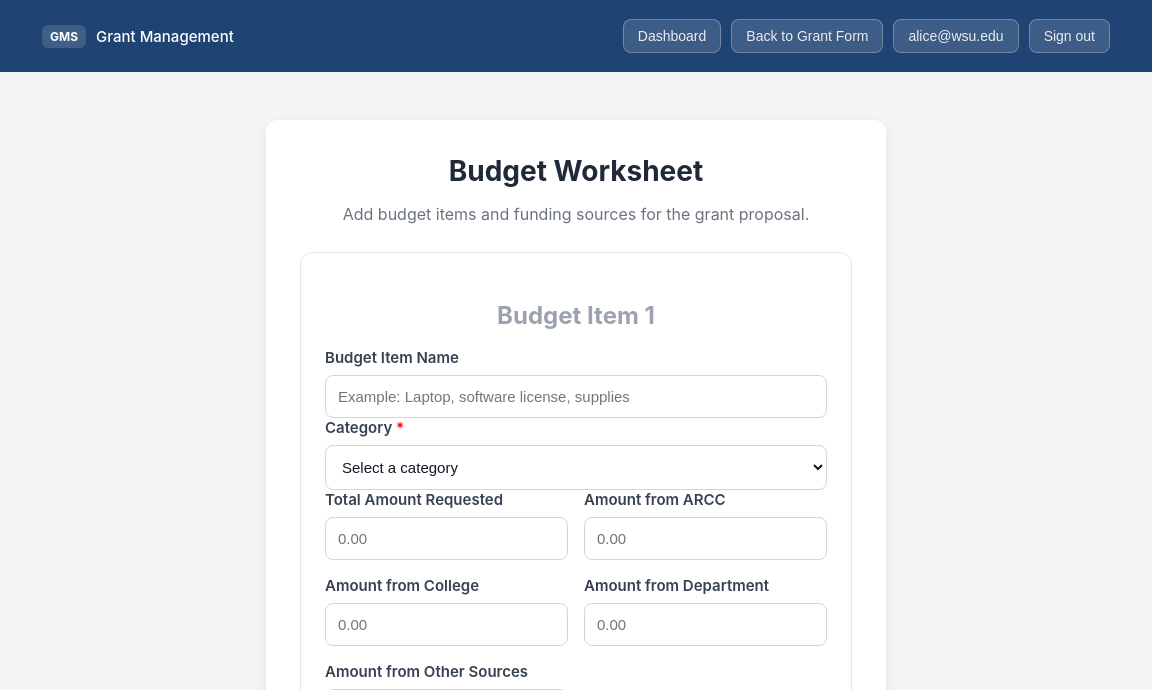
BudgetWorksheet › shows the grand total across all items
In the number field labelled "Amount from ARCC": (706,538) [584,517,827,560], type "100"
(page scrolled)
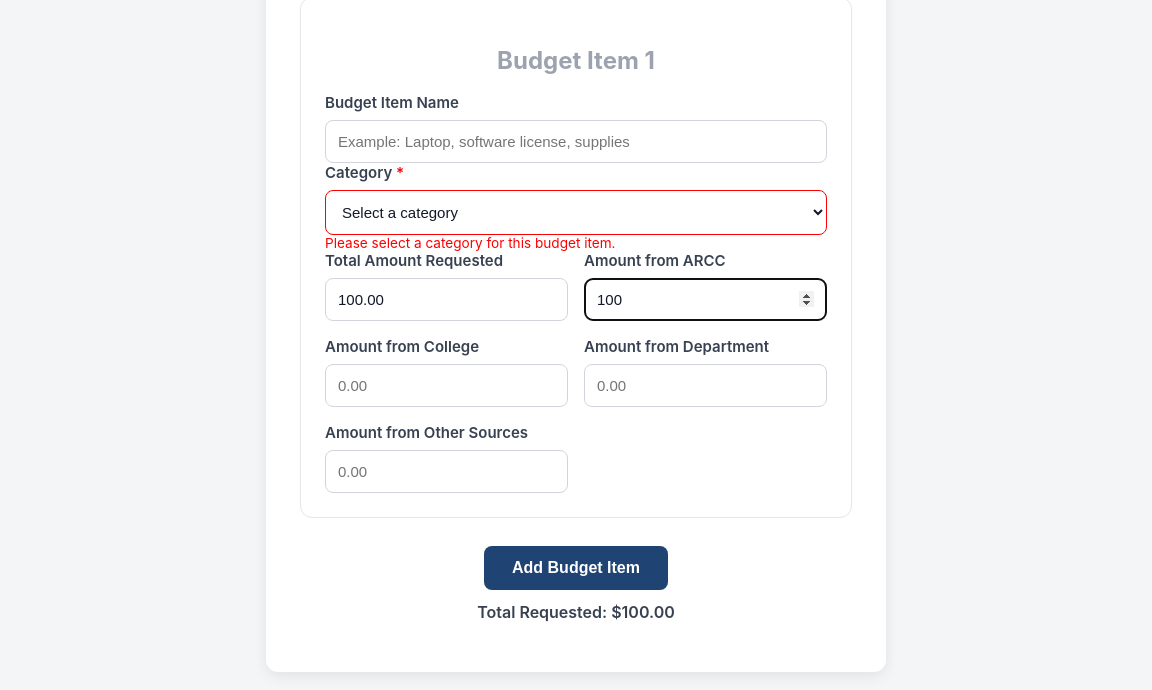
Click the button "Add Budget Item": (576,568) [484,546,668,590]
(page scrolled)
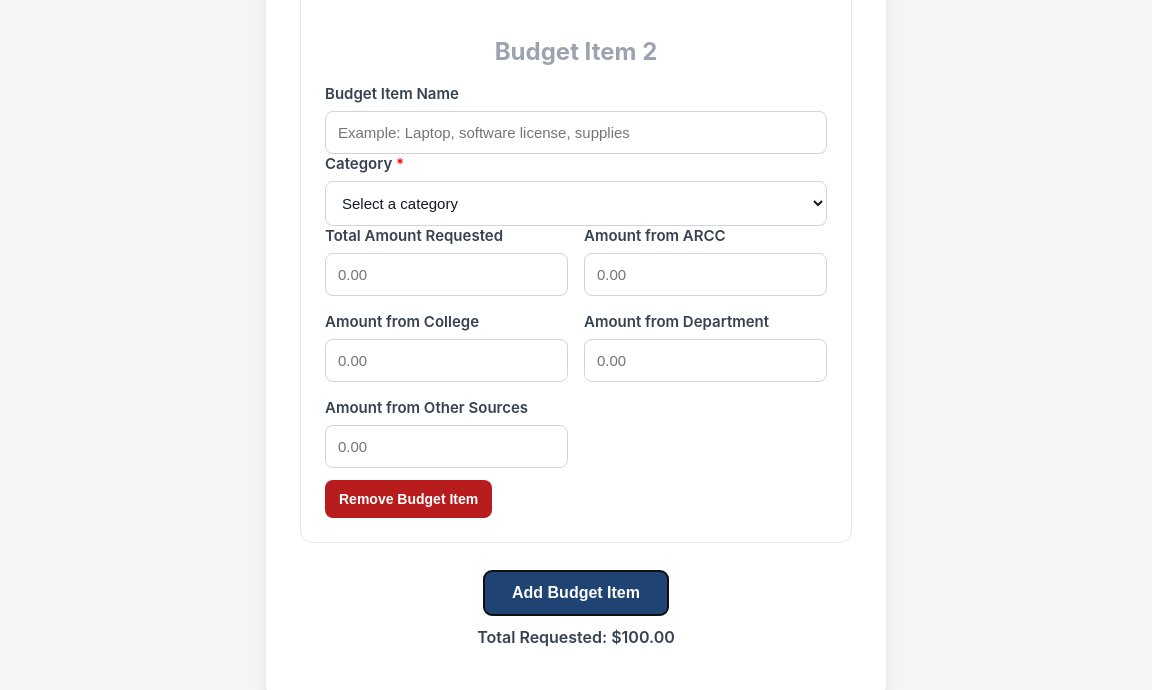
In the number field labelled "Amount from Department": (706,360) [584,339,827,382], type "25"
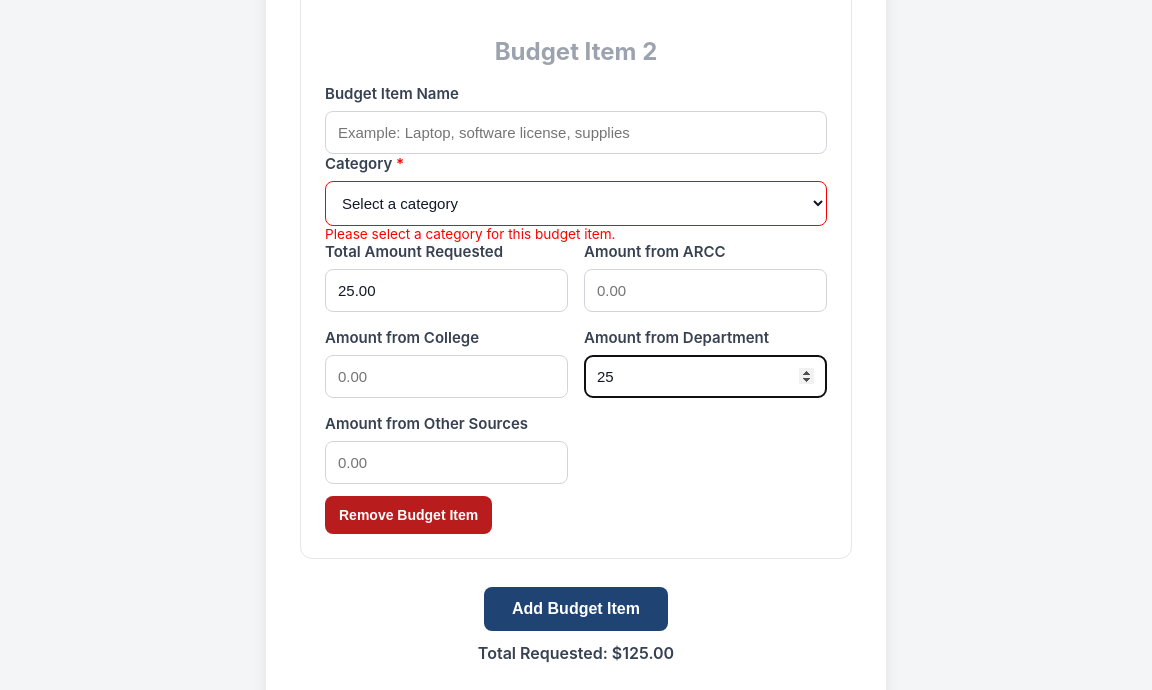
expect the text "Total Requested: $125.00" is shown: met, box [478,643,674,663]
